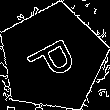P_NE: (21, 30, 84, 86)
